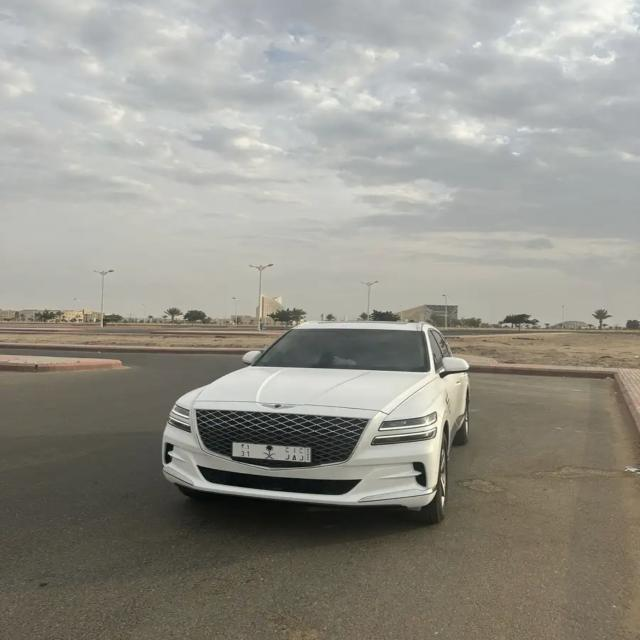license_plate: (232, 442, 312, 463)
